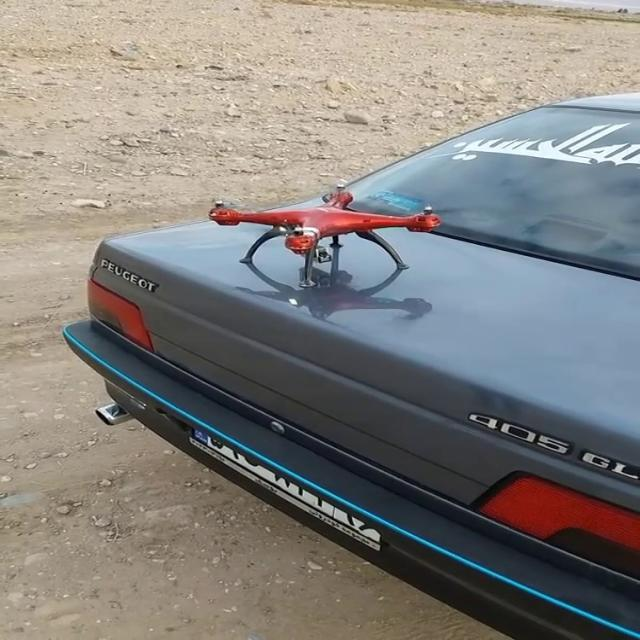drone: (201, 181, 465, 287)
